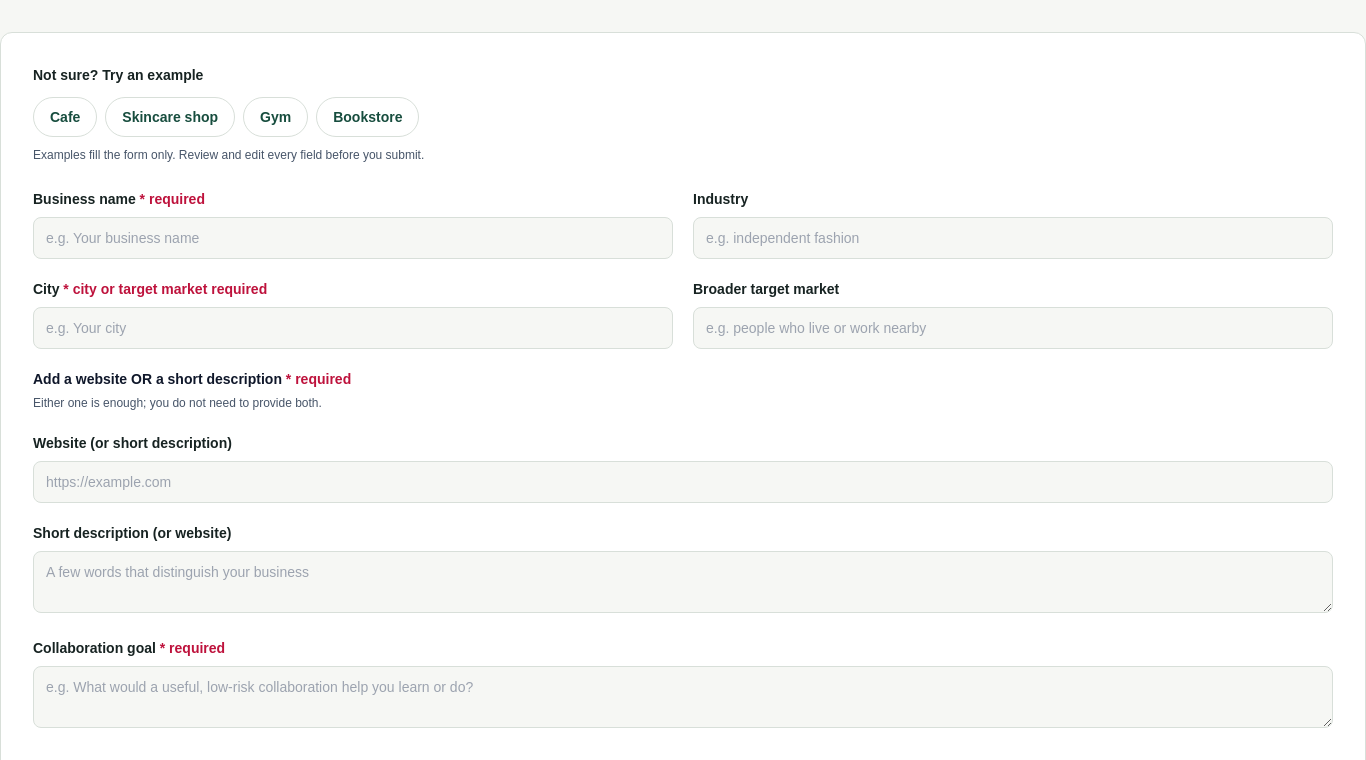
Test case: business brief form › fills every field from the Gym example without submitting
Click the button "Gym": (276, 117) [243,97,308,137]
(page scrolled)
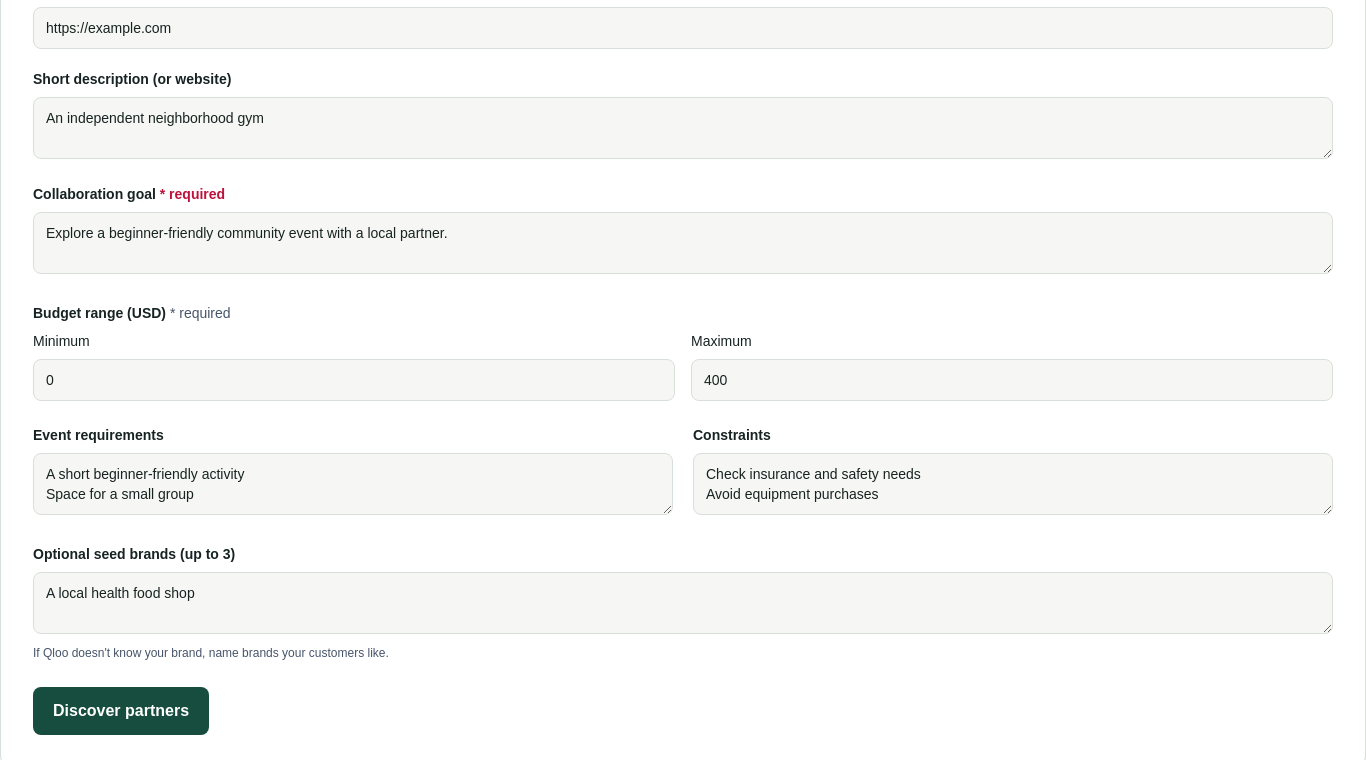
Expected: the field labelled "Website (or short description)" holds "https://example.com", [33,7,1333,49]
Expected: the text box labelled "Short description (or website)" holds "An independent neighborhood gym", [33,97,1333,159]
Expected: the text box labelled "Collaboration goal * required" holds "Explore a beginner-friendly community event with a local partner.", [33,212,1333,274]
